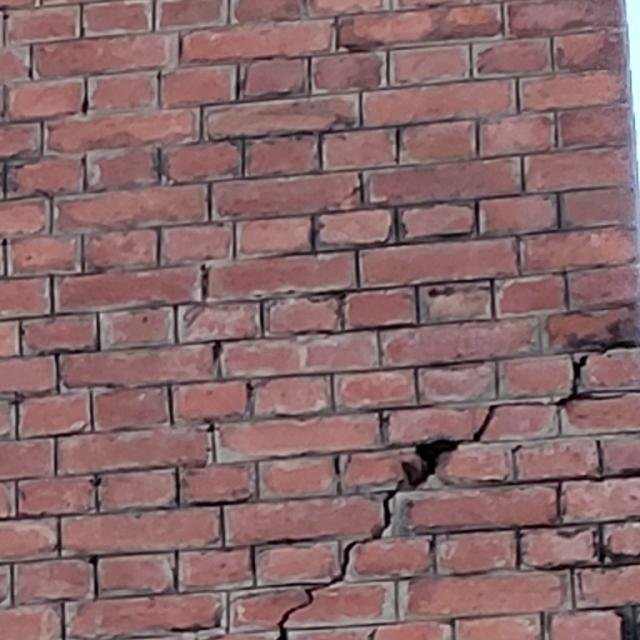crack: (260, 355, 597, 638)
